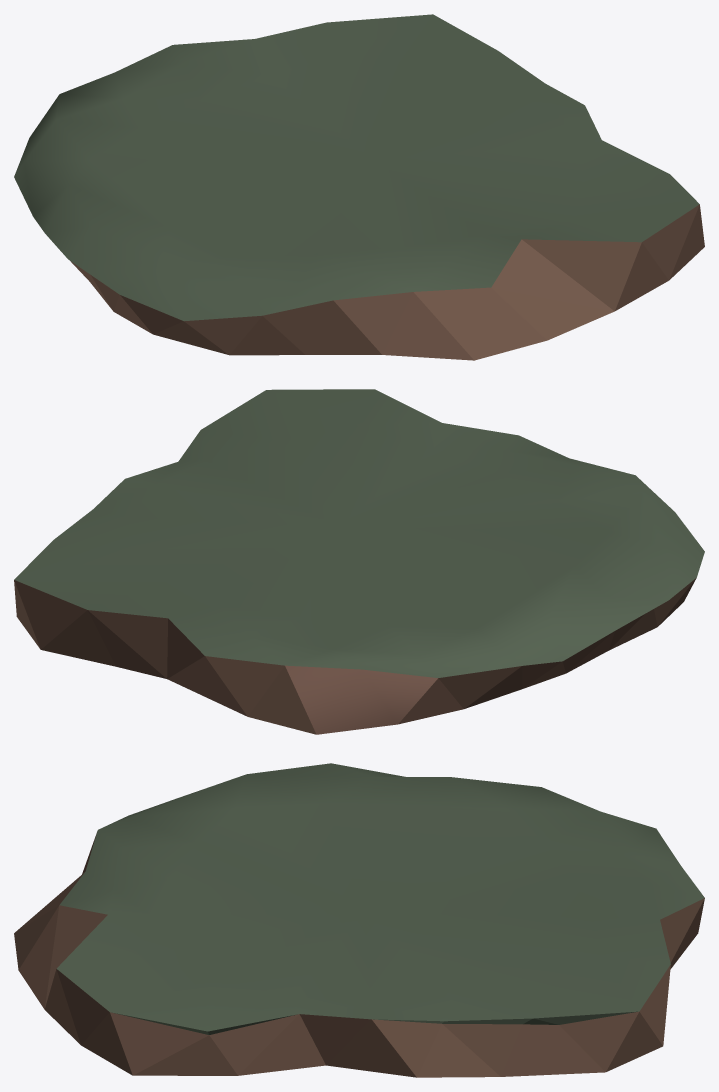
Rendered from Ground.obj.
3 views of the same model, one above another, from view 1: azimuth 30°, elevation 25°; view 2: azimuth 150°, elevation 25°; view 3: azimuth 270°, elevation 25° (orthographic). The views are drawn at different scales.
Parts seen in each view (by area): view 1: obj1; view 2: obj1; view 3: obj1.
Boxes of the visible parts, x1,y1,x2,y2 form: obj1: (14,14,704,360); obj1: (14,389,704,734); obj1: (14,763,704,1077).
Size of the model in its own units: 27.22 by 3.08 by 29.78.
Materials: 1 (1 with a texture image).
